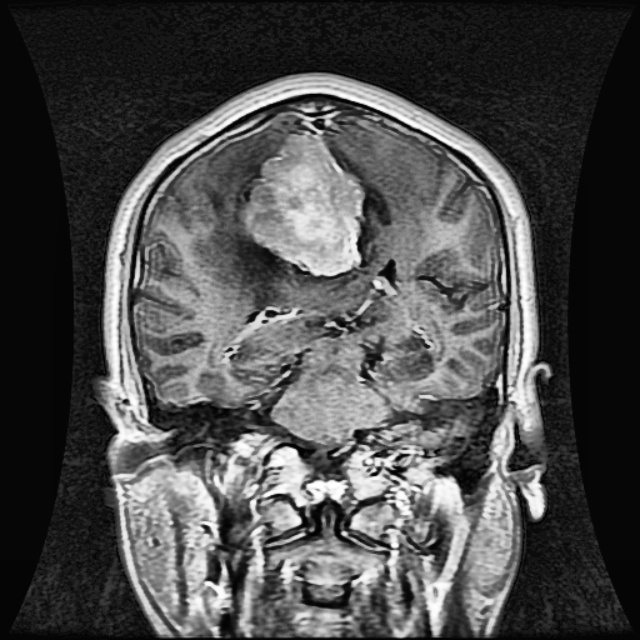Glioma: (247, 133, 364, 274)
